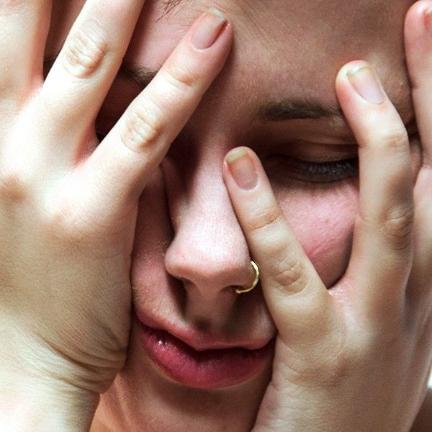Nail: (347, 63, 385, 103), (192, 6, 228, 48), (226, 150, 258, 190)
